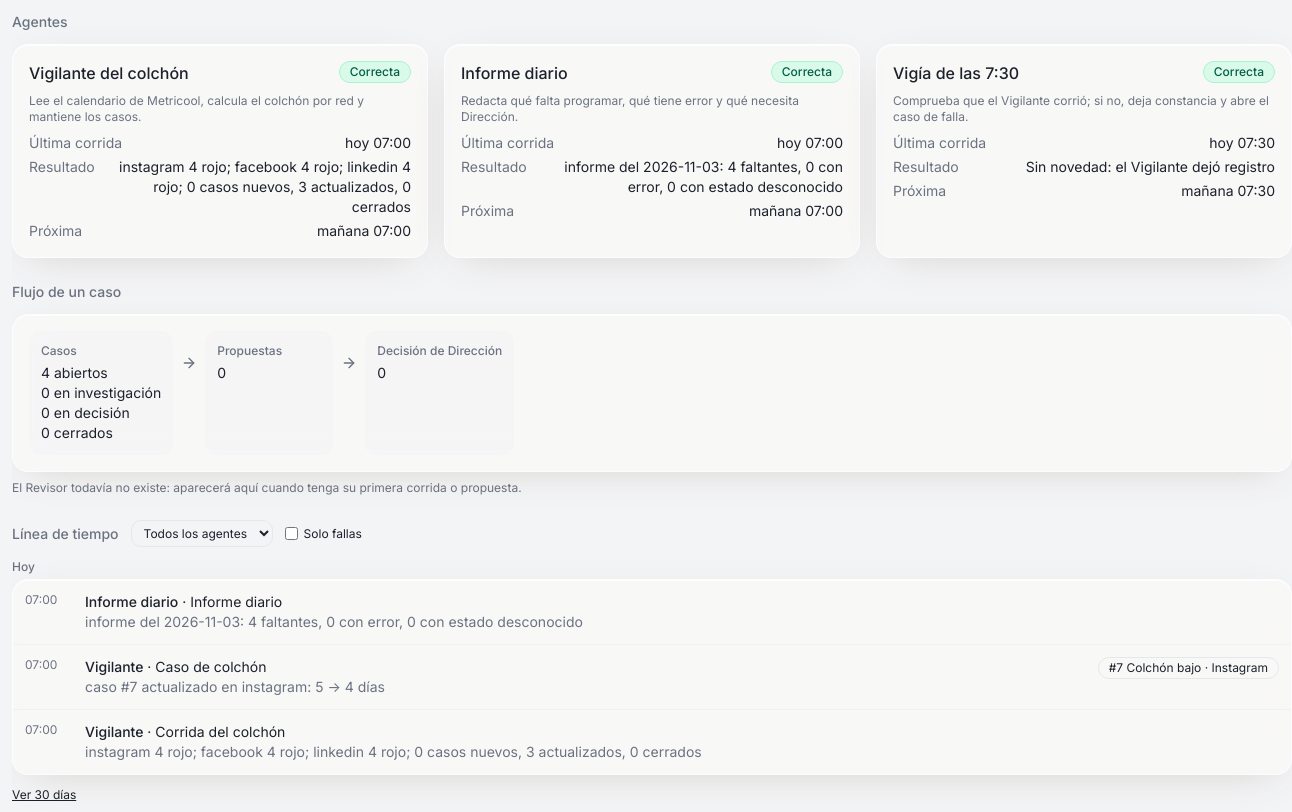
Test: vista Agentes › línea de tiempo: muestra el caso al que se refiere cada evento y filtra al pulsarlo
The image size is (1292, 812).
Click the button "#7 Colchón bajo · Instagram". click: (1188, 668)
box: [1098, 657, 1279, 679]
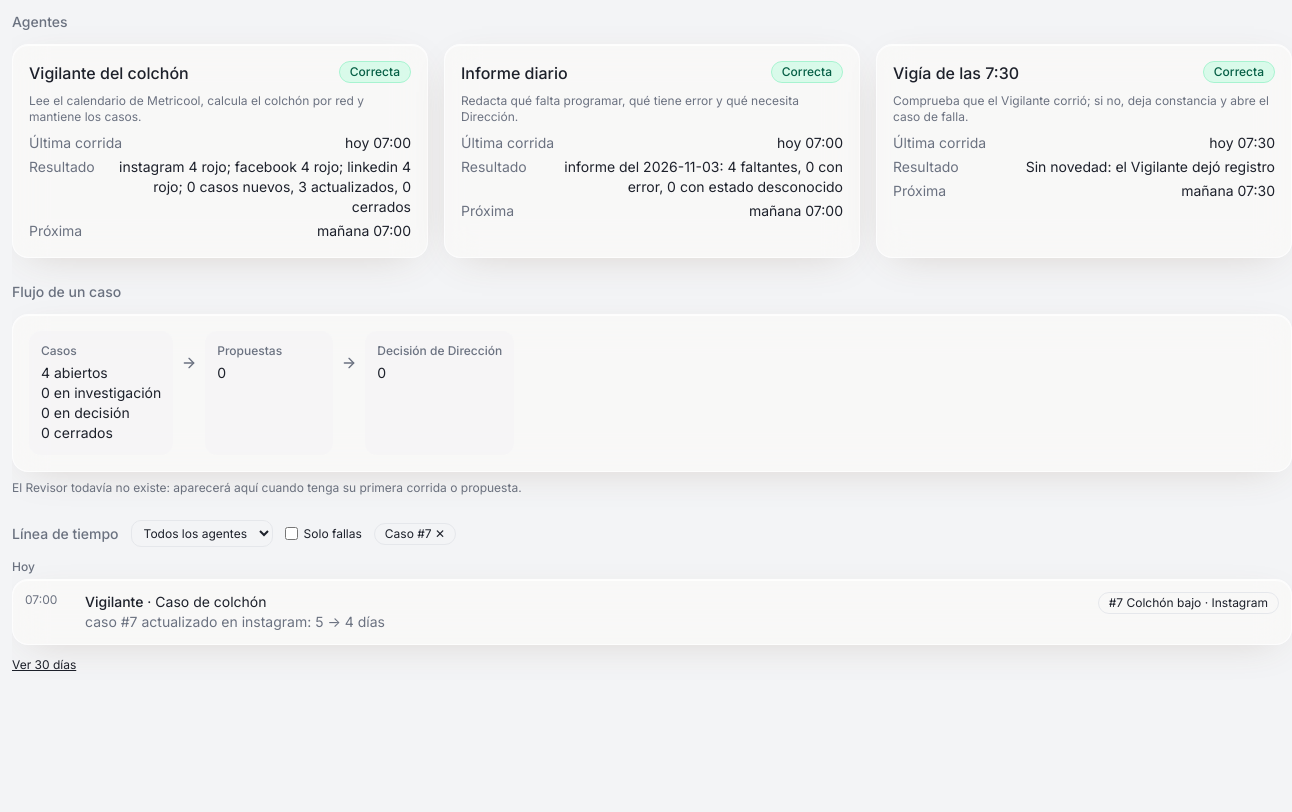
Expected: the list item with test id "evento-a2" is shown, [25, 592, 1279, 630]
Expected: the button "Caso #7 ✕" is shown, [374, 522, 456, 544]
Expected: the list item with test id "evento-a1" is gone
